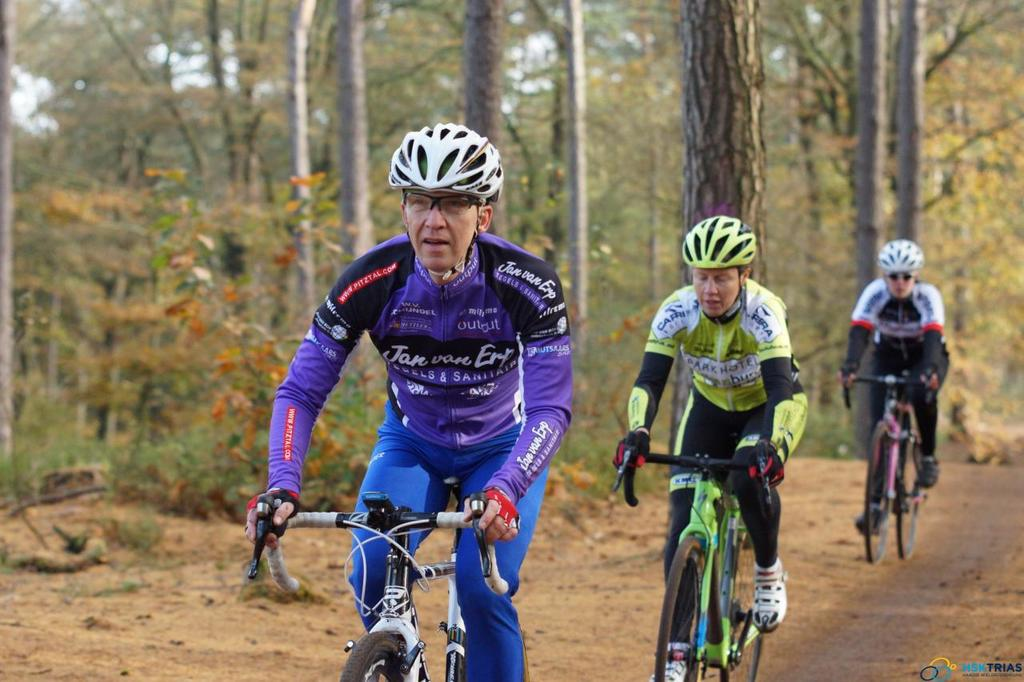Tree: (0, 0, 779, 496), (779, 0, 1023, 460)
